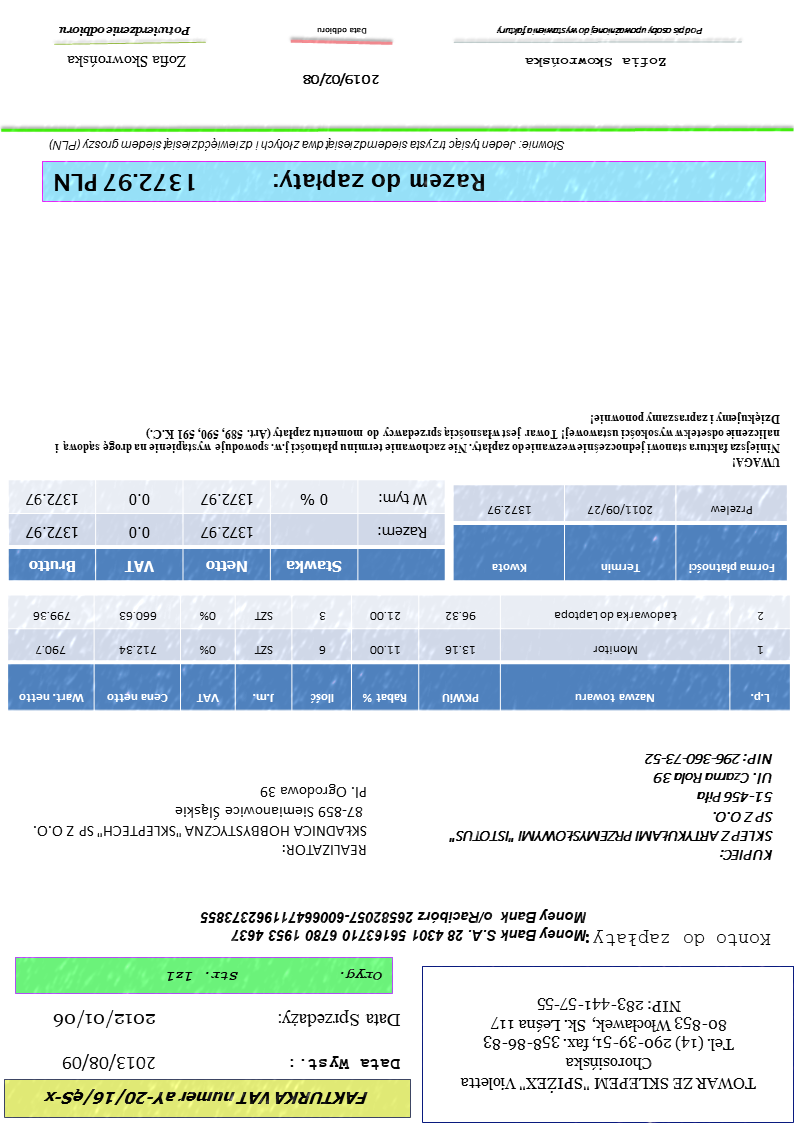Table: (5, 594, 792, 714), (6, 477, 447, 583), (451, 483, 789, 583)
TextBox: (49, 409, 785, 475), (445, 746, 777, 865), (455, 991, 764, 1097), (30, 780, 373, 862), (52, 165, 491, 202), (197, 908, 592, 945), (47, 136, 569, 156), (37, 1087, 371, 1113), (162, 966, 386, 990), (584, 927, 776, 950), (493, 25, 706, 39), (277, 1009, 406, 1032), (286, 1053, 406, 1077), (522, 54, 670, 72), (51, 1009, 161, 1033), (58, 1051, 159, 1077), (60, 52, 189, 72), (56, 24, 195, 38), (299, 71, 383, 91), (314, 21, 371, 40)
